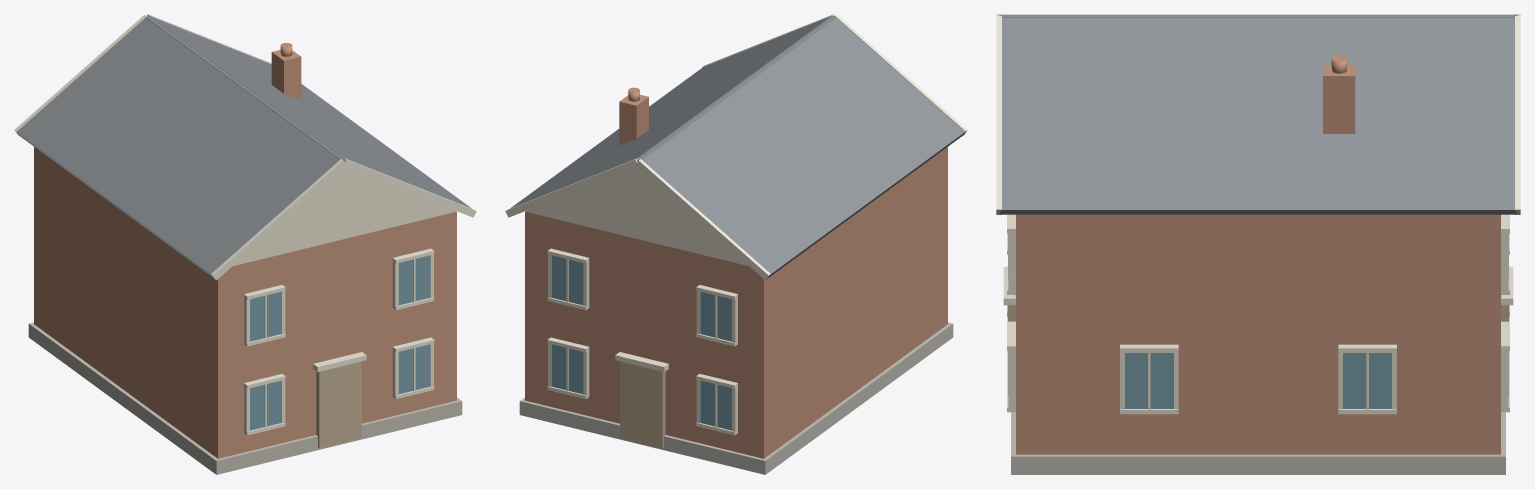
Rendered from rhine-brick-house_lod0.glb.
3 views of the same model, side by side, from view 1: azimuth 30°, elevation 25°; view 2: azimuth 150°, elevation 25°; view 3: azimuth 270°, elevation 25° (orthographic). The views are drawn at different scales.
Parts seen in each view (by area): view 1: RF_Body, RF_Roof.001, RF_Gable, RF_Roof, RF_Foundation, RF_Door.001, RF_Vergeband.001, RF_Window.003, RF_Window.004, RF_Window.001, RF_Window.002, RF_Chimney (+4 smaller); view 2: RF_Body, RF_Roof.001, RF_Gable.001, RF_Roof, RF_Foundation, RF_Door, RF_Vergeband.002, RF_Window.007, RF_Window.008, RF_Window.005, RF_Window.006, RF_Chimney (+4 smaller); view 3: RF_Body, RF_Roof, RF_Foundation, RF_Window.009, RF_Window, RF_Chimney, RF_Ridge, RF_Vergeband, RF_Vergeband.003, RF_Roof.001, RF_WindowFrame.016, RF_WindowFrame.008.
Part boxes in pixels (x1,y1,x2,y2): RF_Body: (34, 147, 456, 458); RF_Roof.001: (17, 17, 340, 278); RF_Gable: (233, 167, 456, 265); RF_Roof: (149, 16, 471, 208); RF_Foundation: (28, 322, 462, 474); RF_Door.001: (316, 361, 361, 448); RF_Vergeband.001: (211, 159, 346, 280); RF_Window.003: (398, 344, 430, 394); RF_Window.004: (398, 255, 430, 305); RF_Window.001: (250, 380, 281, 430); RF_Window.002: (250, 291, 281, 341); RF_Chimney: (271, 50, 301, 100); RF_Body: (525, 147, 947, 458); RF_Roof.001: (641, 17, 965, 277); RF_Gable.001: (525, 167, 748, 265); RF_Roof: (510, 16, 832, 208); RF_Foundation: (519, 322, 953, 474); RF_Door: (620, 361, 665, 448); RF_Vergeband.002: (636, 159, 770, 280); RF_Window.007: (551, 344, 583, 394); RF_Window.008: (551, 255, 583, 305); RF_Window.005: (700, 380, 731, 430); RF_Window.006: (700, 291, 731, 341); RF_Chimney: (619, 94, 648, 145); RF_Body: (1016, 214, 1500, 454); RF_Roof: (1000, 16, 1516, 214); RF_Foundation: (1011, 412, 1505, 474); RF_Window.009: (1125, 353, 1173, 408); RF_Window: (1343, 353, 1391, 408); RF_Chimney: (1323, 65, 1355, 133); RF_Ridge: (999, 15, 1517, 17); RF_Vergeband: (1515, 16, 1520, 214); RF_Vergeband.003: (996, 16, 1001, 214); RF_Roof.001: (1000, 14, 1516, 15); RF_WindowFrame.016: (1501, 227, 1508, 294); RF_WindowFrame.008: (1008, 227, 1015, 294).
Size of the model in its own units: 9.93 by 10.47 by 12.98.
